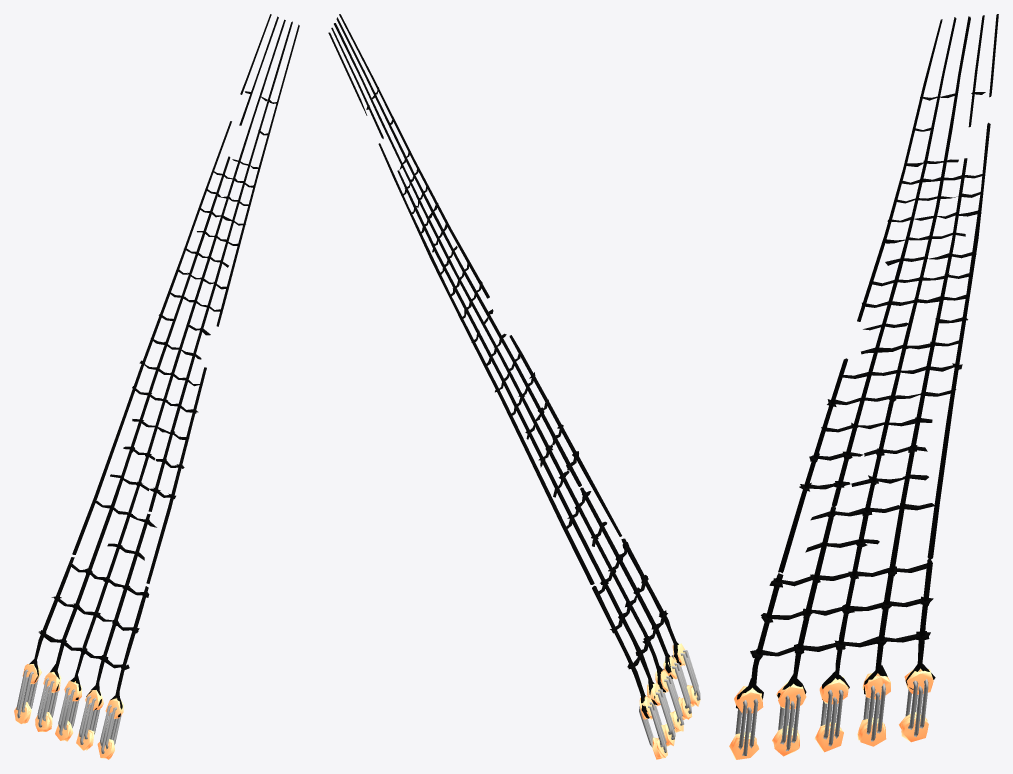
The model's file is SM_Shroud03.fbx.
3 renders of one model, left to right at view 1: azimuth 30°, elevation 25°; view 2: azimuth 150°, elevation 25°; view 3: azimuth 270°, elevation 25°, orthographic. The views are drawn at different scales.
Visible parts, largest first — view 1: SM_Shroud03_LOD0; view 2: SM_Shroud03_LOD0; view 3: SM_Shroud03_LOD0.
Part boxes in pixels (bbox=[...]): SM_Shroud03_LOD0: bbox=[14, 14, 299, 759]; SM_Shroud03_LOD0: bbox=[328, 14, 700, 759]; SM_Shroud03_LOD0: bbox=[729, 14, 998, 759].
Size of the model in its own units: 495 by 265 by 1010.
